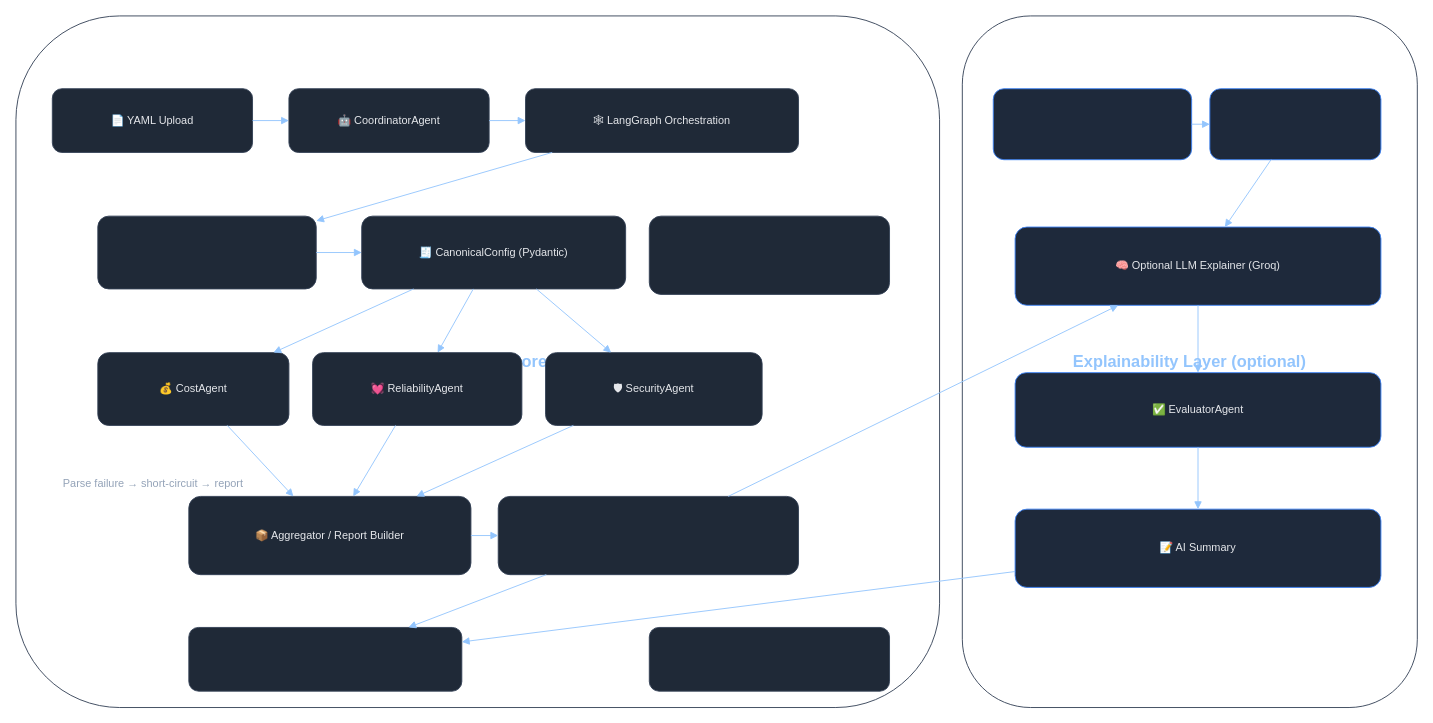
Some shapes in this 1433 by 723 pixel diagram are drawn without their labels. Here are the shapes that lost their labels. From the top down, the centre of each, then its label:
[1092,124]: 📚 Knowledge Pack
[1295,124]: 🔎 Retriever (RAG)
[206,252]: 📘 ParserAgent
[769,254]: 🧰 Local MCP-style Tools (read-only)
[648,535]: 📄 AnalysisReport
[325,659]: 🖥 Results UI
[769,659]: 📐 Pydantic Contracts
